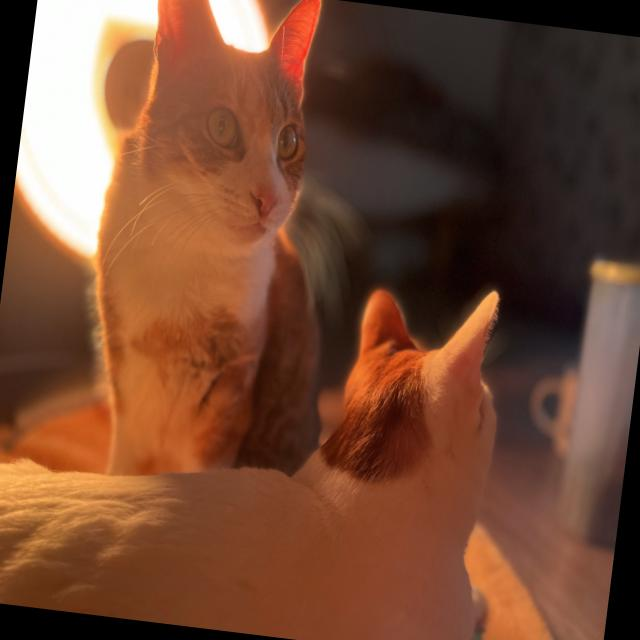cat1: (0, 231, 515, 640)
cat2: (72, 0, 375, 497)
